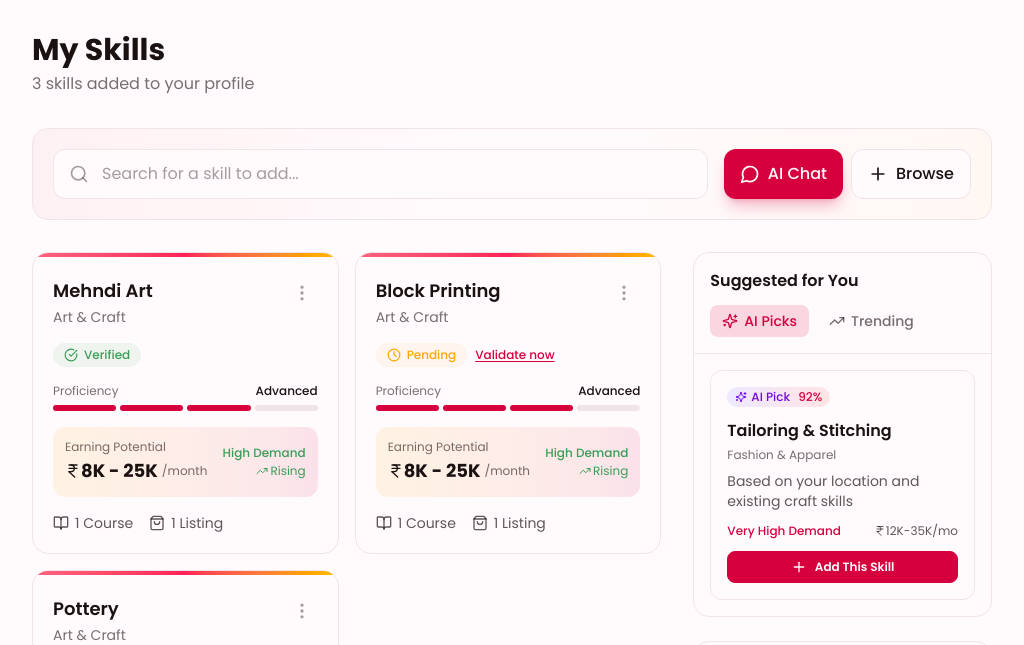
Empty State: No Suggestions › shows empty state message when no trending suggestions available
What coordinates should you click on to do the following:
click the button "Trending"
I would click on:
 (872, 321)
Its box is [817,305,926,337].
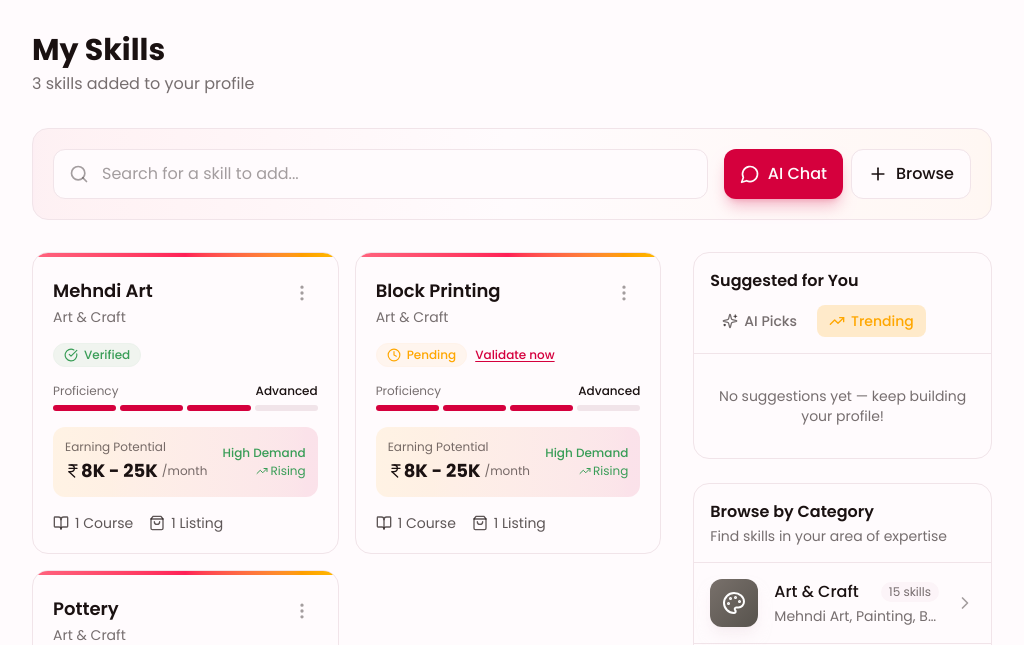
Expected: the text "No suggestions yet — keep building your profile!" is shown, [719,386,966,426]
